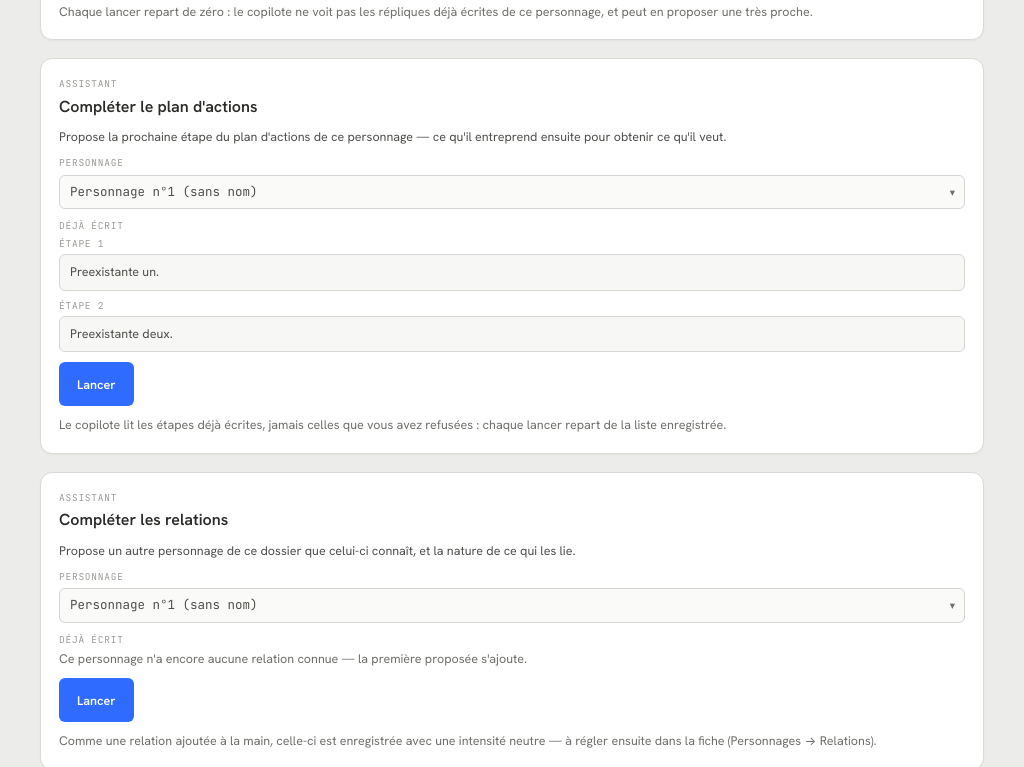
planActions - etape posee par le CODE, 1 a k+N sans doublon › deux acceptations successives sur un plan de deux etapes preexistantes numerotent 1 2 3 4
(page scrolled)
Step 1. Click the button "Lancer" below "Preexistante deux." → (96, 384), box [59,362,134,406]
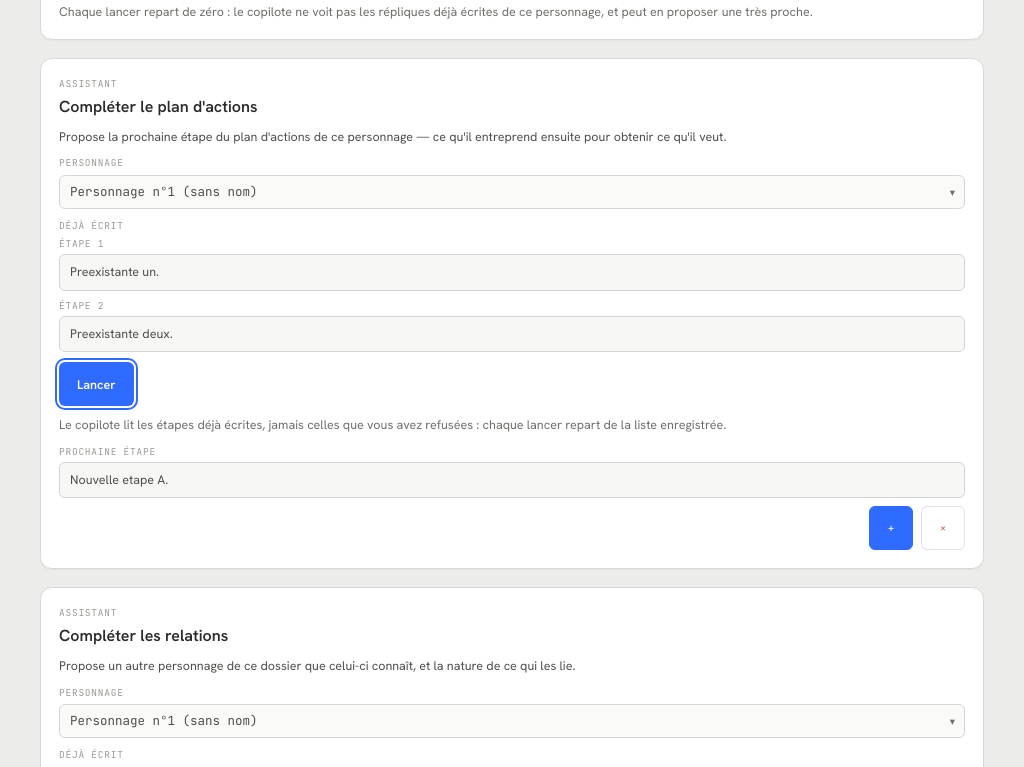
Result: the button named "Accepter la proposition" is shown
Step 2. Click the button named "Accepter la proposition" → (891, 528), box [869,506,913,550]
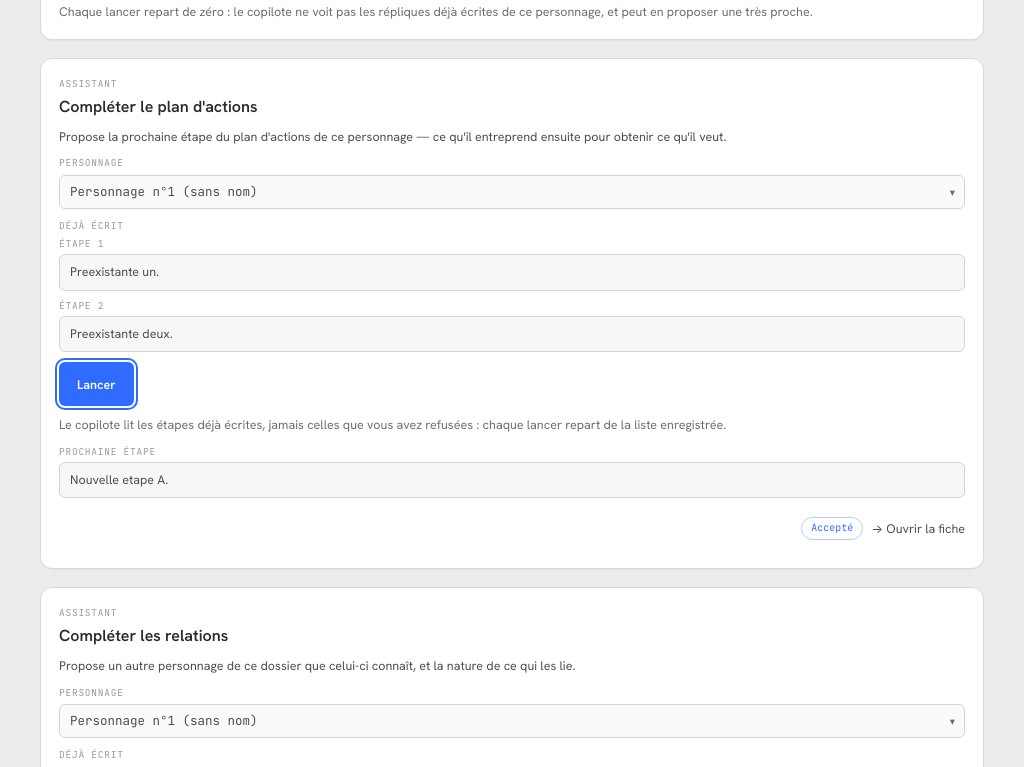
Result: the text "Accepté" is shown at [801,517,863,540]
Step 3. Click the button "Lancer" → (96, 384), box [59,362,134,406]
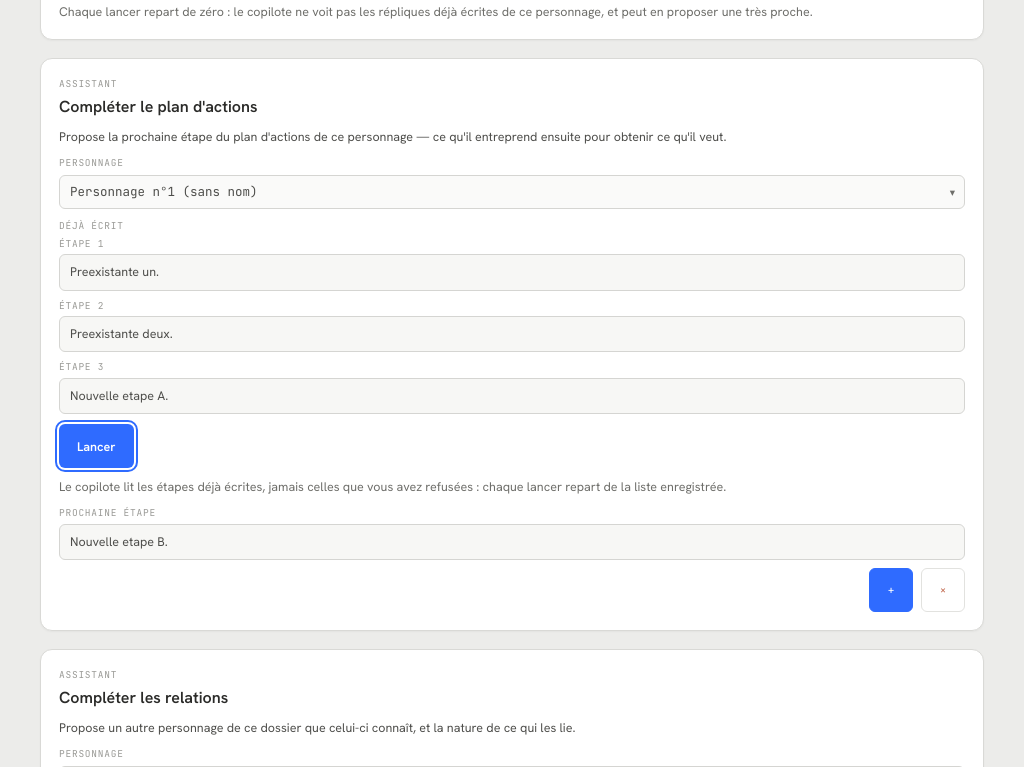
Result: the button named "Accepter la proposition" is shown
Step 4. Click the button named "Accepter la proposition" → (891, 590), box [869,568,913,612]
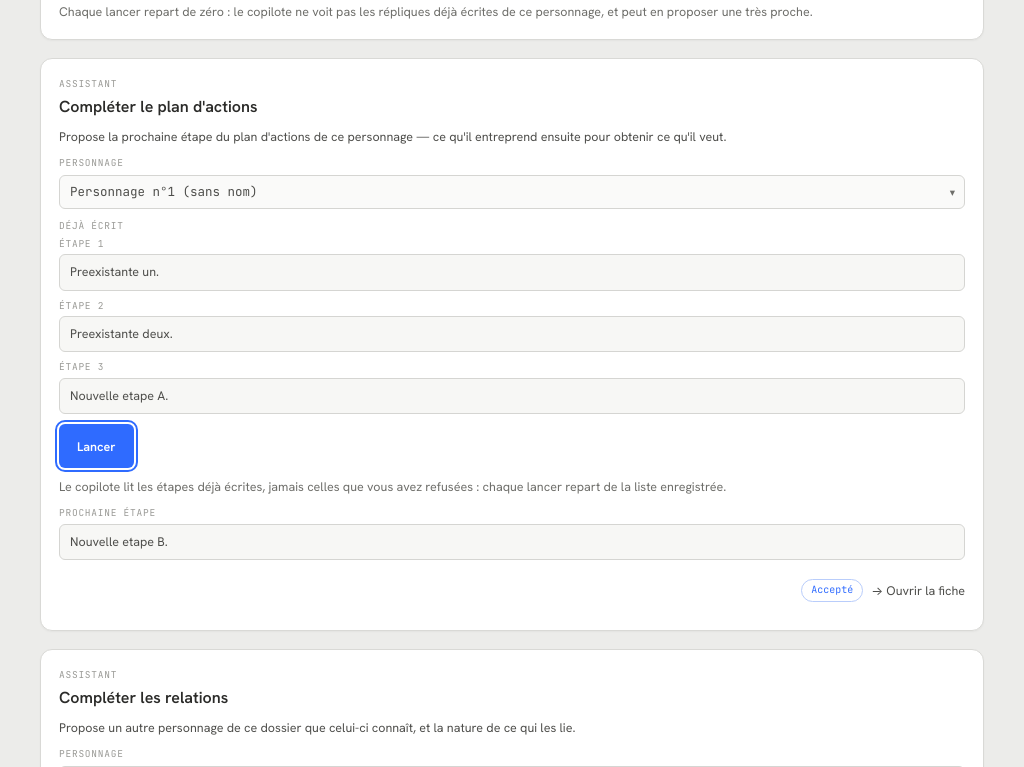
Result: the text "Accepté" is shown at [801,579,863,602]
